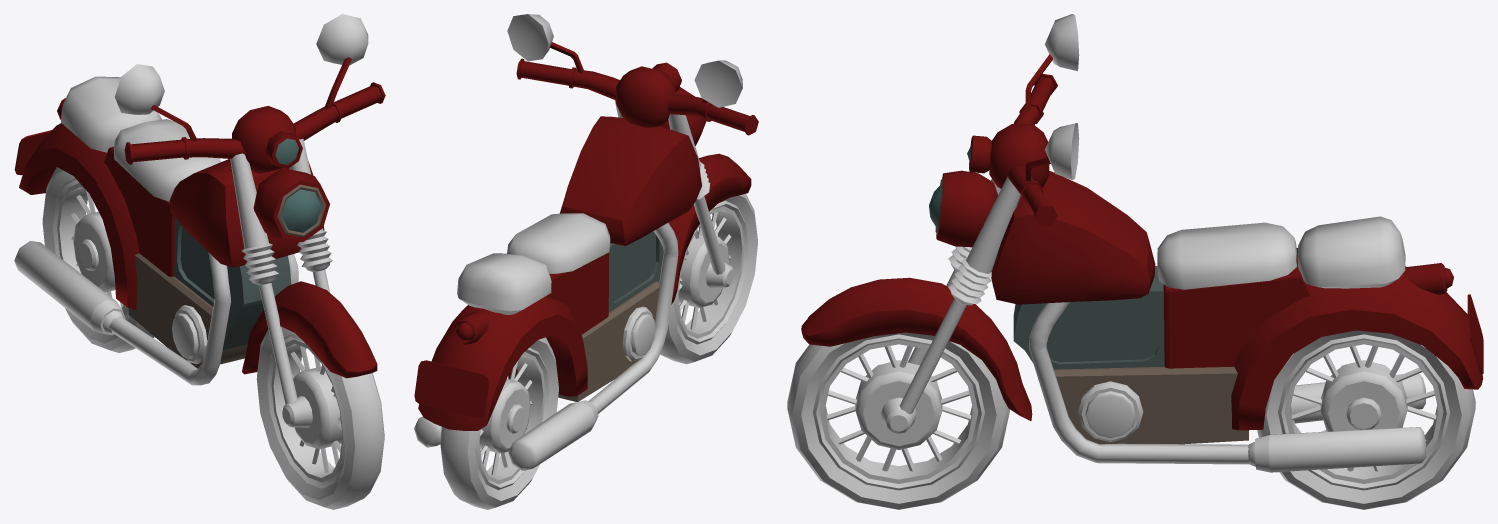
File: BikeOBJ.obj
3 views of the same model, side by side, from view 1: azimuth 30°, elevation 25°; view 2: azimuth 150°, elevation 25°; view 3: azimuth 270°, elevation 25° (orthographic). The views are drawn at different scales.
Visible parts, largest first — view 1: Cylinder1, Cylinder0071, Circle1, Cube0081, Cylinder0081, Cube0041, Cube0021, Cube0011, Cube0101, Cube0061, Cylinder0061, Cube0051 (+17 smaller); view 2: Cube0041, Circle1, Cylinder1, Cube0061, Cylinder0021, Cube0051, Cube0011, Cylinder0061, Plane1, Cylinder0071, Cube0111, Cube1 (+15 smaller); view 3: Cube0041, Circle1, Cylinder1, Cube0081, Cylinder0071, Cube0011, Cube0021, Cube1, Cylinder0021, Cube0051, Cylinder0061, Cube0061 (+14 smaller).
Part boxes in pixels (x1,y1,x2,y2): Cylinder1: [14, 240, 298, 385]; Cylinder0071: [256, 326, 384, 509]; Circle1: [19, 123, 139, 309]; Cube0081: [242, 281, 377, 378]; Cylinder0081: [230, 138, 332, 404]; Cube0041: [169, 159, 324, 267]; Cube0021: [174, 217, 291, 350]; Cube0011: [128, 253, 247, 368]; Cube0101: [115, 14, 368, 114]; Cube0061: [61, 76, 161, 152]; Cylinder0061: [267, 334, 346, 488]; Cube0051: [114, 119, 221, 201]; Cube0041: [560, 116, 701, 245]; Circle1: [418, 296, 587, 430]; Cylinder1: [414, 223, 678, 470]; Cube0061: [457, 253, 551, 314]; Cylinder0021: [440, 337, 558, 509]; Cube0051: [507, 213, 610, 273]; Cube0011: [558, 281, 659, 401]; Cylinder0061: [674, 200, 748, 344]; Plane1: [414, 360, 489, 418]; Cylinder0071: [660, 193, 757, 364]; Cube0111: [507, 14, 742, 107]; Cube1: [547, 252, 608, 334]; Cube0041: [991, 171, 1155, 304]; Circle1: [1231, 266, 1483, 430]; Cylinder1: [1029, 302, 1425, 472]; Cube0081: [801, 277, 1032, 420]; Cylinder0071: [787, 332, 1010, 509]; Cube0011: [1054, 366, 1248, 444]; Cube0021: [1013, 266, 1164, 369]; Cube1: [1163, 248, 1310, 368]; Cylinder0021: [1257, 330, 1475, 509]; Cube0051: [1157, 222, 1296, 289]; Cylinder0061: [813, 334, 984, 490]; Cube0061: [1297, 216, 1405, 288].
Size of the model in its own units: 4.29 by 6.49 by 9.37.
